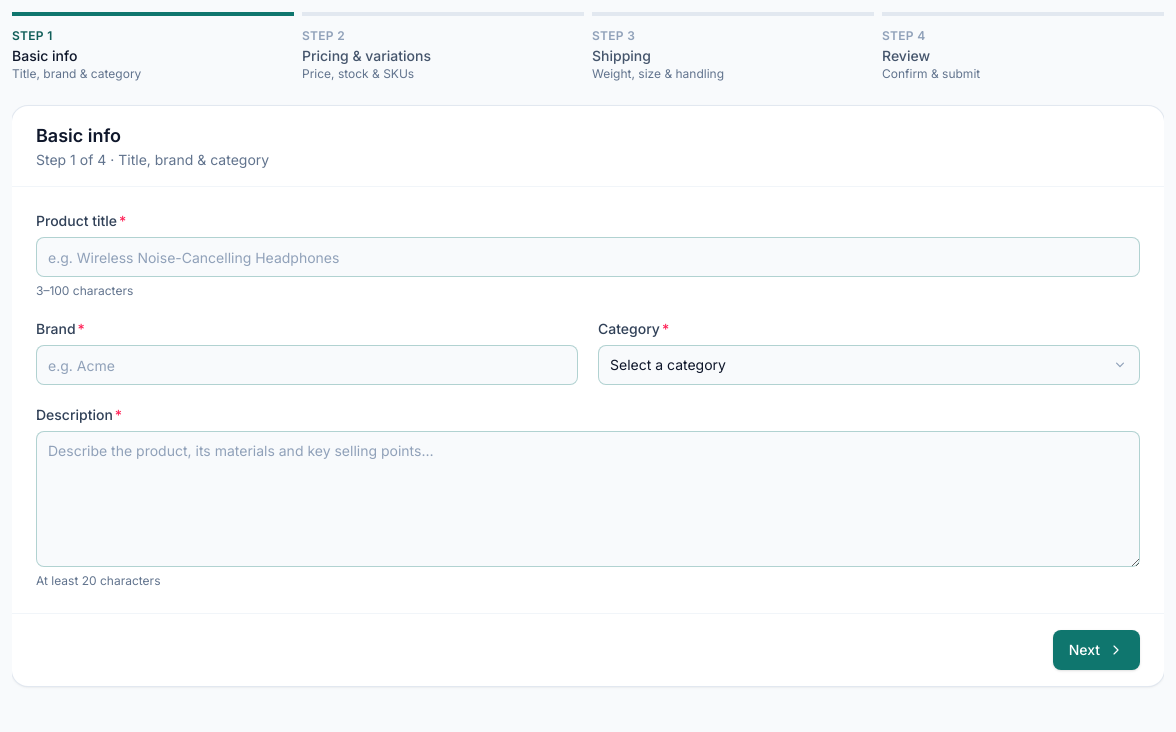
Test case: ProductWizard (integration) › autosaves the draft while typing
Type "Autosaved" into the field labelled "Product title*". click: (588, 257)
box: [36,237,1140,277]
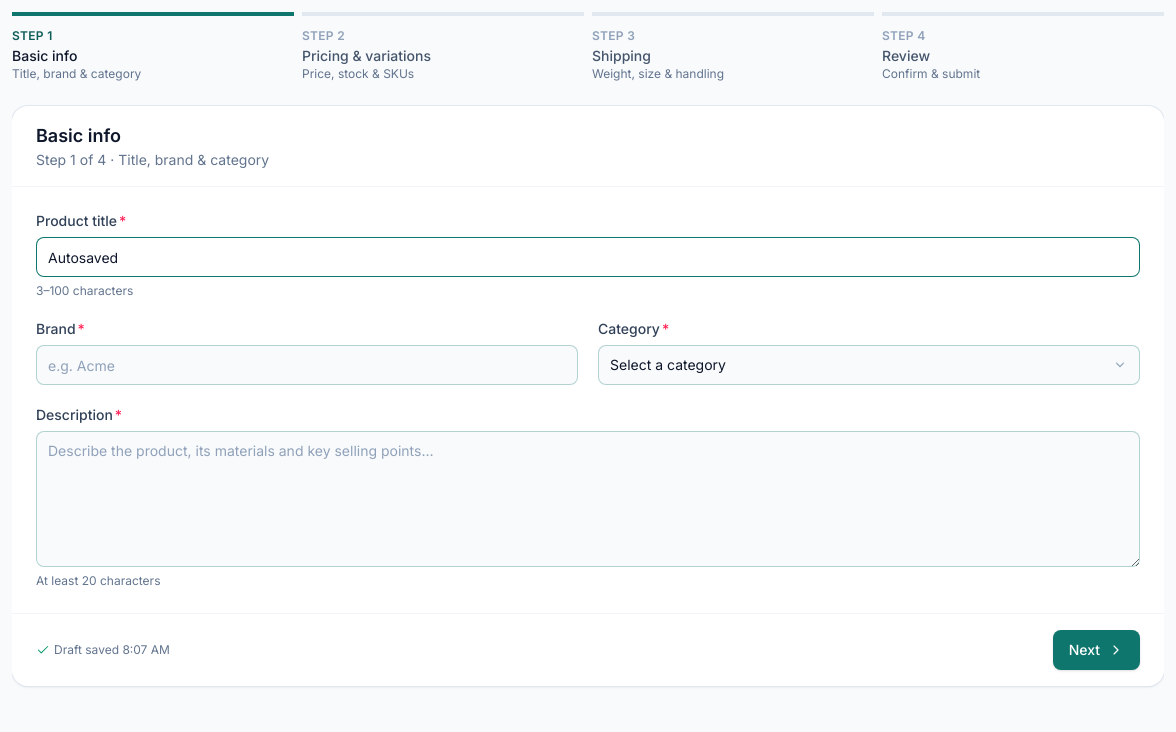
Check: the text "Draft saved 8:07 AM" is shown, box [36,642,170,658]
